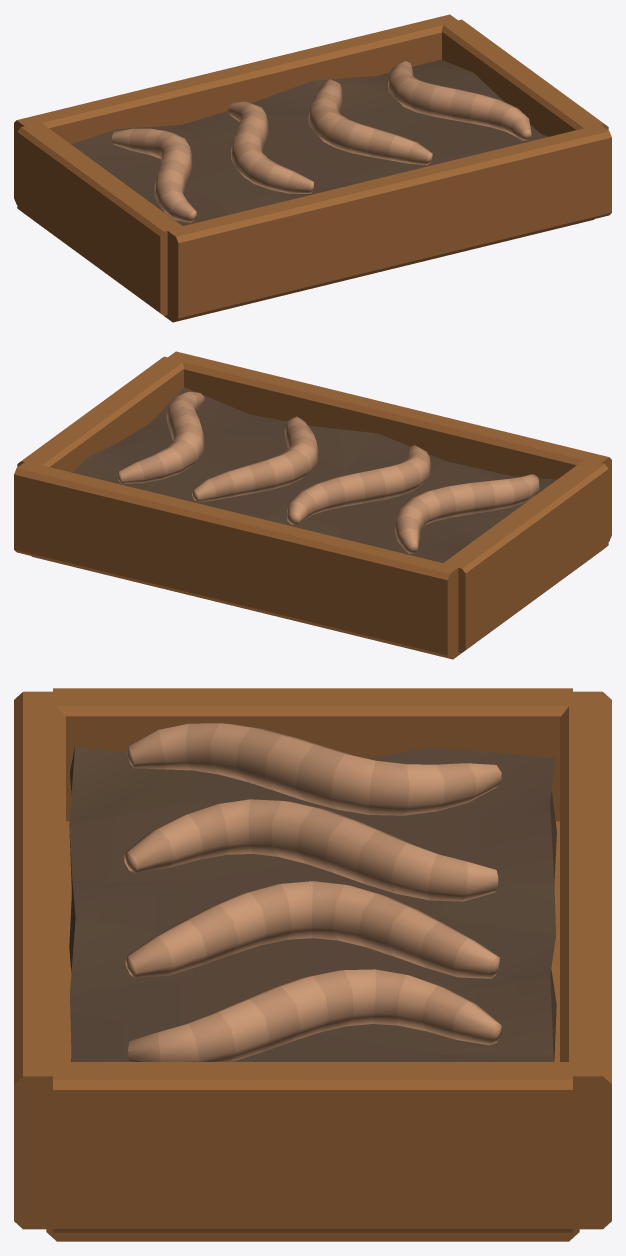
The model's file is prop_compost_output_a.glb.
3 views of the same model, one above another, from view 1: azimuth 30°, elevation 25°; view 2: azimuth 150°, elevation 25°; view 3: azimuth 270°, elevation 25° (orthographic). The views are drawn at different scales.
Parts seen in each view (by area): view 1: prop_compost_output_a_tray, prop_compost_output_a_worms; view 2: prop_compost_output_a_tray, prop_compost_output_a_worms; view 3: prop_compost_output_a_tray, prop_compost_output_a_worms.
Boxes of the visible parts, left/top/right/bottom form: prop_compost_output_a_tray: left=14, top=14, right=611, bottom=322; prop_compost_output_a_worms: left=112, top=61, right=531, bottom=222; prop_compost_output_a_tray: left=14, top=351, right=611, bottom=659; prop_compost_output_a_worms: left=117, top=391, right=539, bottom=553; prop_compost_output_a_tray: left=14, top=688, right=611, bottom=1241; prop_compost_output_a_worms: left=124, top=723, right=501, bottom=1061.
Size of the model in its own units: 0.724 by 0.16 by 0.46.
